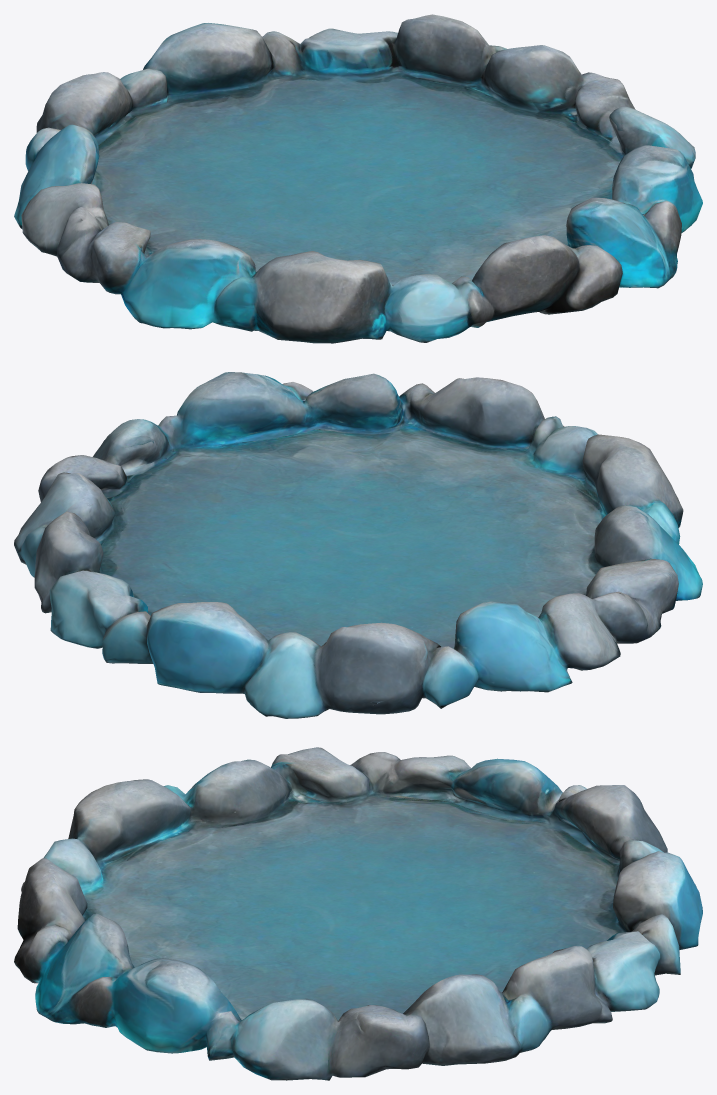
Rendered from bath.glb.
3 renders of one model, top to bottom at view 1: azimuth 30°, elevation 25°; view 2: azimuth 150°, elevation 25°; view 3: azimuth 270°, elevation 25°, orthographic. The views are drawn at different scales.
Bounding box in the file's own units: 1.99 × 0.2732 × 1.98.
1 material, 1 textured.
